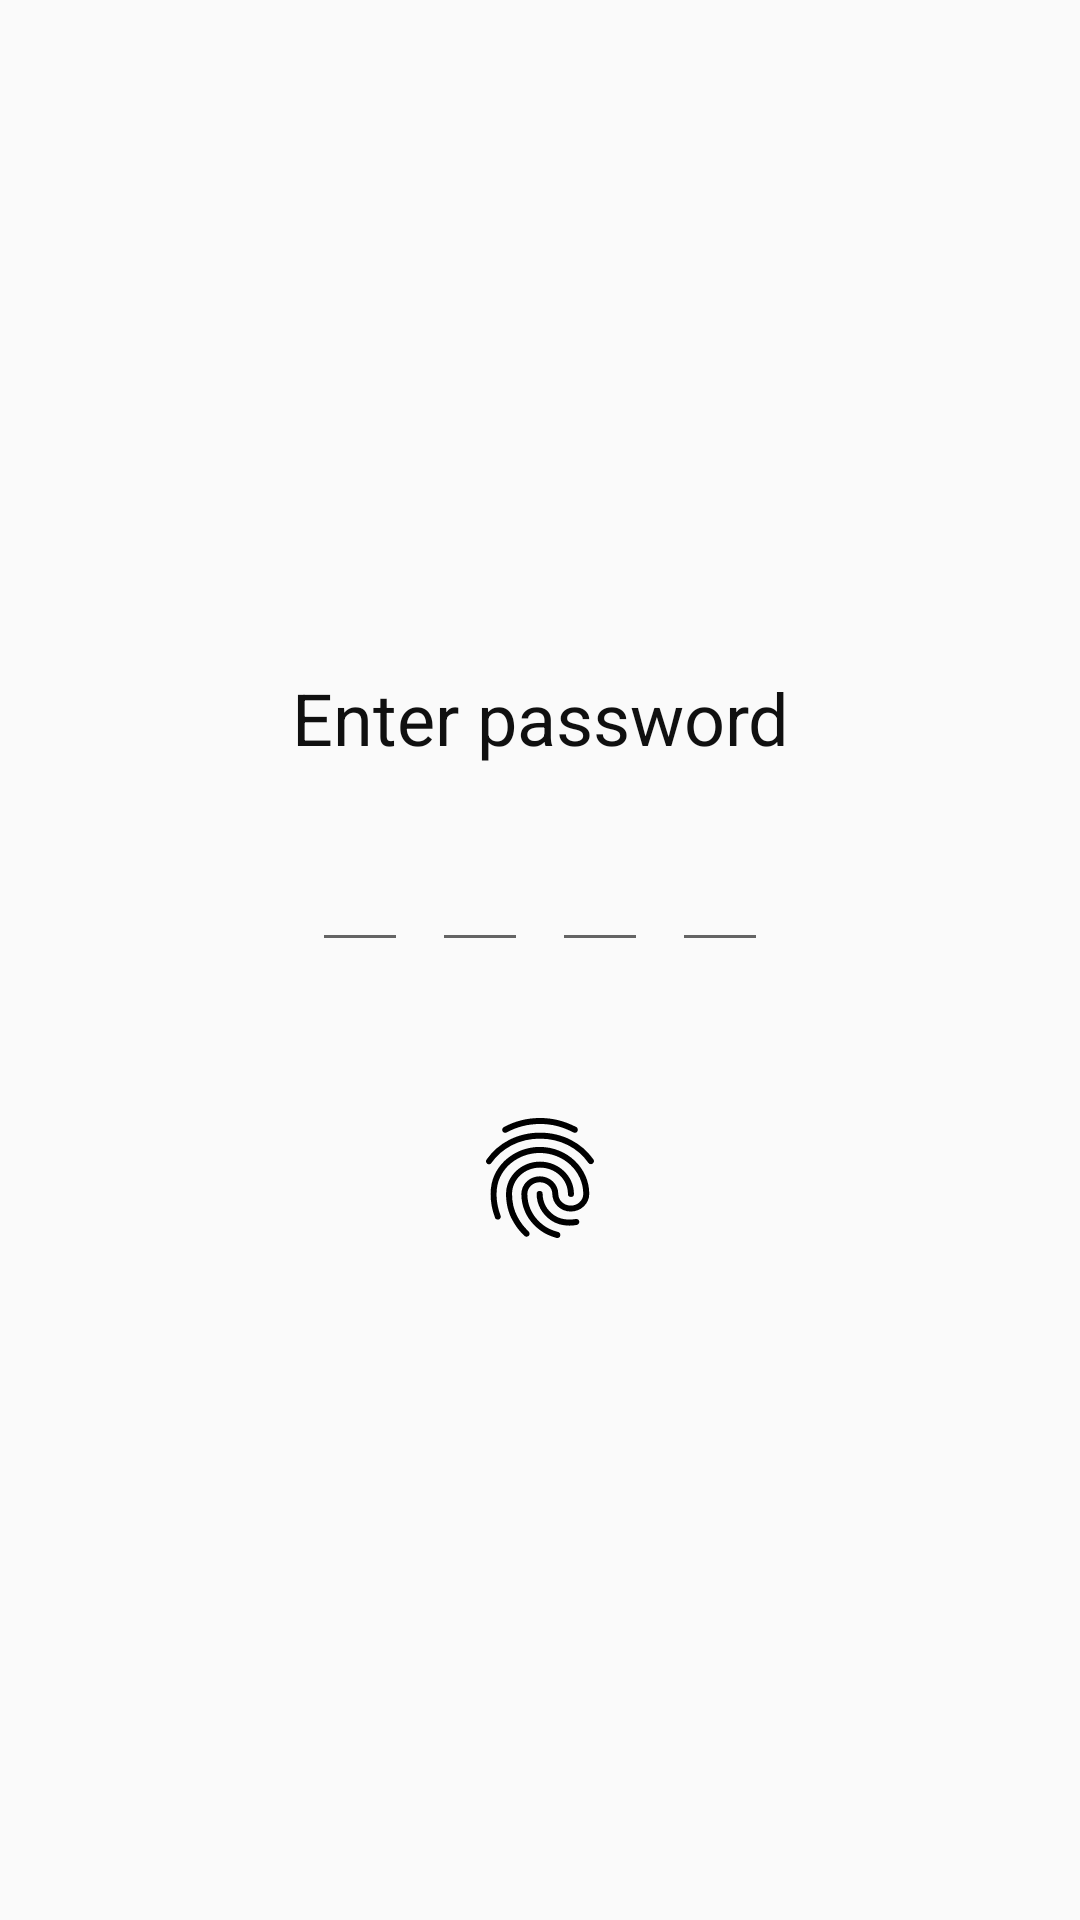

Point at icon controls on the screen. Image size 1080 x 1920, points as (x=x, y=y).
fingerprint: (x=540, y=1178)
